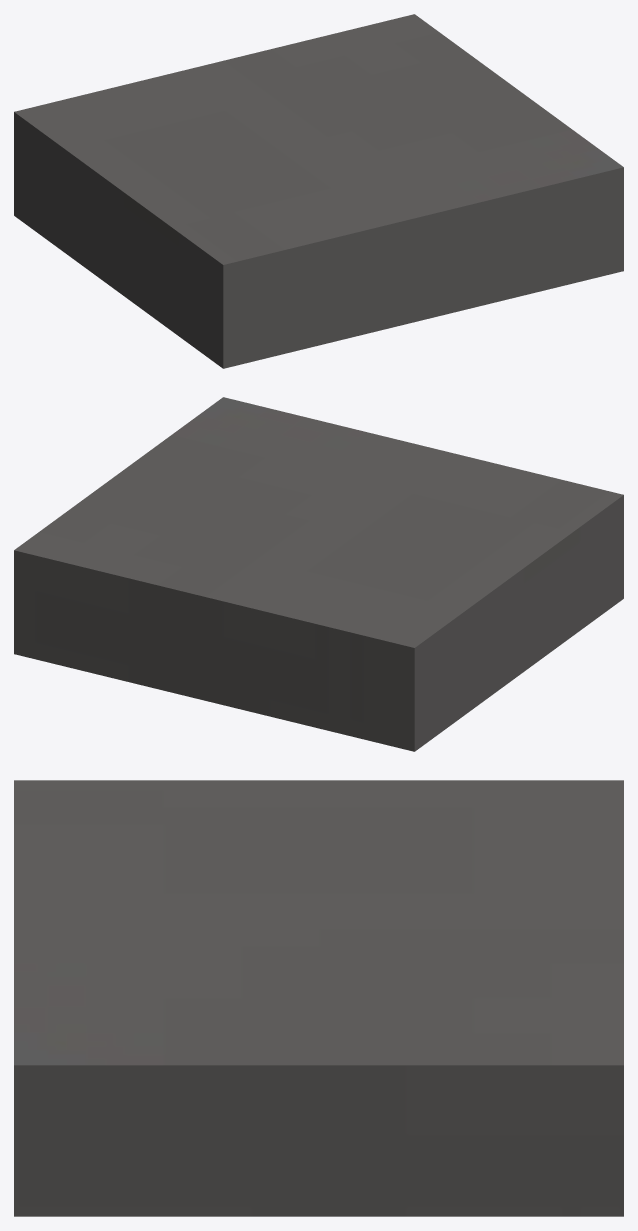
The model's file is frame__wheel_mount_0.glb.
3 renders of one model, top to bottom at view 1: azimuth 30°, elevation 25°; view 2: azimuth 150°, elevation 25°; view 3: azimuth 270°, elevation 25°, orthographic. The views are drawn at different scales.
Parts seen in each view (by area): view 1: world; view 2: world; view 3: world.
Part boxes in pixels (x1,y1,x2,y2): world: (14,14,623,368); world: (14,397,623,751); world: (14,780,623,1216).
Size of the model in its own units: 0.105 by 0.026 by 0.095.
Materials: 1 (1 with a texture image).
